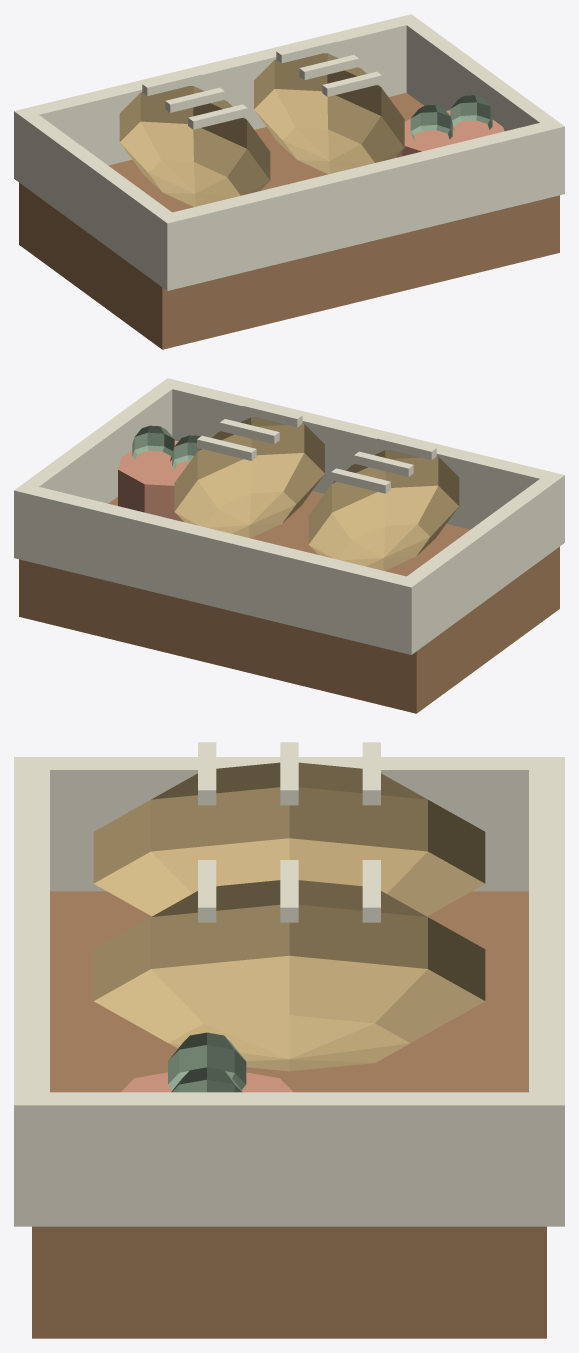
File: tidal-olive-bread-basket__271.glb
The picture shows the model from 3 angles, top to bottom: view 1: azimuth 30°, elevation 25°; view 2: azimuth 150°, elevation 25°; view 3: azimuth 270°, elevation 25°; orthographic projection. The views are drawn at different scales.
Parts seen in each view (by area): view 1: tidal-observatory-olive-bread-basket; view 2: tidal-observatory-olive-bread-basket; view 3: tidal-observatory-olive-bread-basket.
Boxes of the visible parts, x1,y1,x2,y2 form: tidal-observatory-olive-bread-basket: (14,14,564,349); tidal-observatory-olive-bread-basket: (14,378,564,713); tidal-observatory-olive-bread-basket: (14,742,564,1338).
Bounding box in the file's own units: 0.8 × 0.338 × 0.535.
